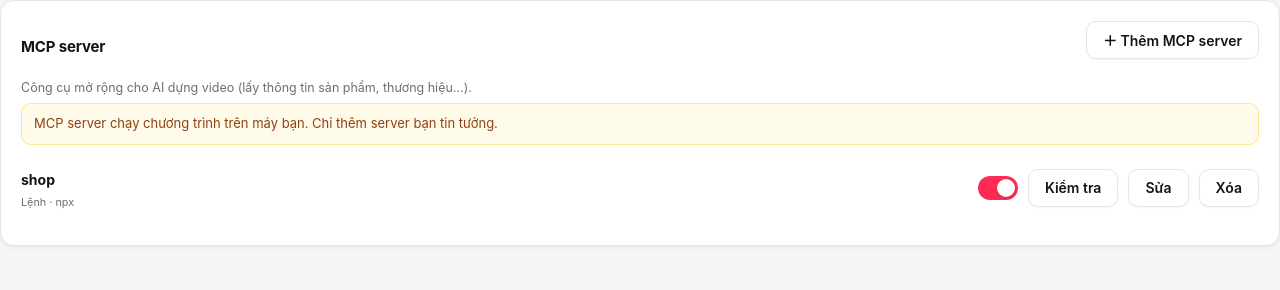
Kiểm tra failure shows the message
Click the button with aria-label "Kiểm tra shop". click: (1073, 188)
box: [1028,169,1118,207]
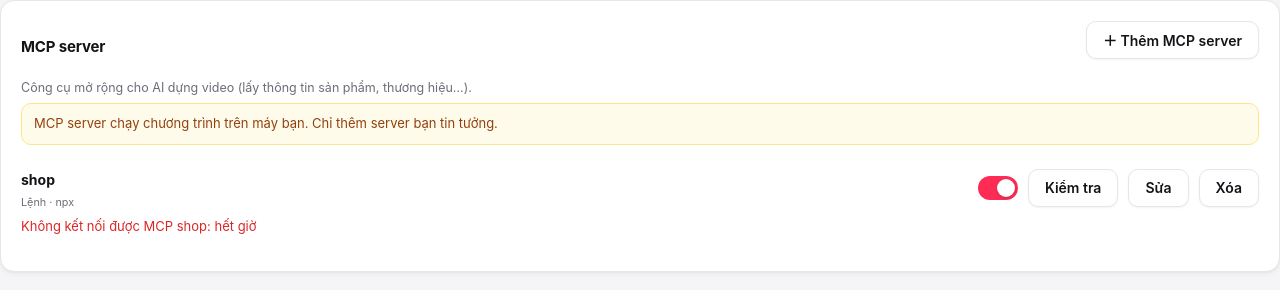
Now the text "Không kết nối được MCP shop: hết giờ" is shown, box [21,218,256,234]
